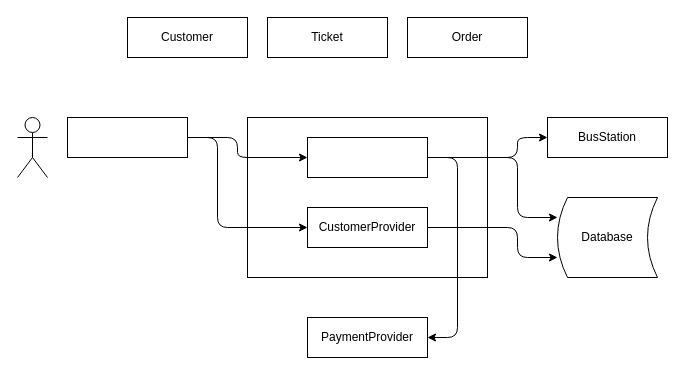
Some shapes in this 685 by 375 pixel diagram are drawn without their labels. The shapes that lost their labels are listed below. From the top down, each one's centre as x and y in pixels, then its label:
pixel 32 147: user
pixel 127 137: MobileApplication
pixel 367 157: TicketProvider
